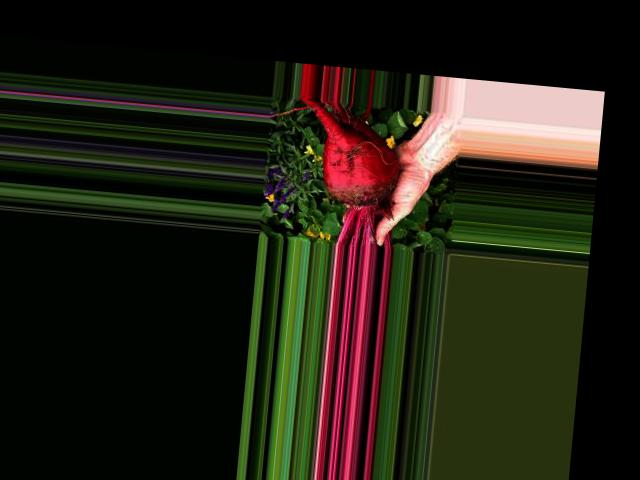beet: (288, 98, 405, 249)
